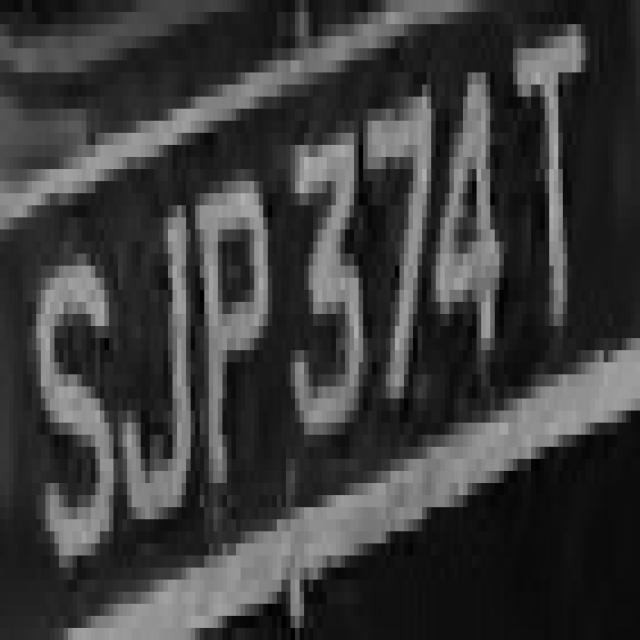3: (277, 85, 363, 507)
4: (427, 12, 508, 411)
7: (358, 48, 436, 459)
J: (118, 193, 204, 592)
P: (195, 109, 277, 556)
S: (32, 229, 113, 604)
T: (512, 0, 608, 362)
